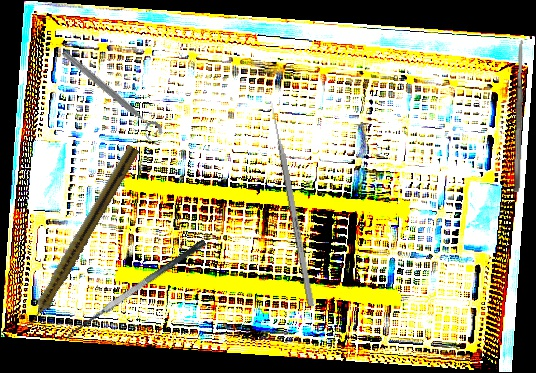Fixation Ring: (54, 47, 166, 145)
Handpiece: (19, 142, 141, 334)
Pusher: (268, 100, 315, 307)
Spatula Surgical: (62, 238, 215, 348), (512, 39, 526, 193)
